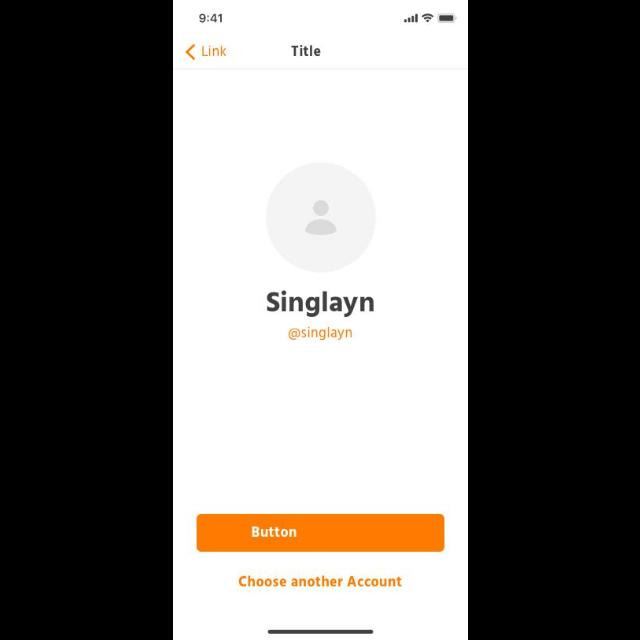icon: (266, 162, 374, 272), (186, 44, 197, 60)
text: (266, 290, 374, 318), (236, 576, 402, 586), (288, 326, 352, 340), (291, 45, 321, 57), (202, 45, 228, 57)
textbutton: (196, 514, 444, 552)
uppertaskbar: (199, 14, 457, 24)
